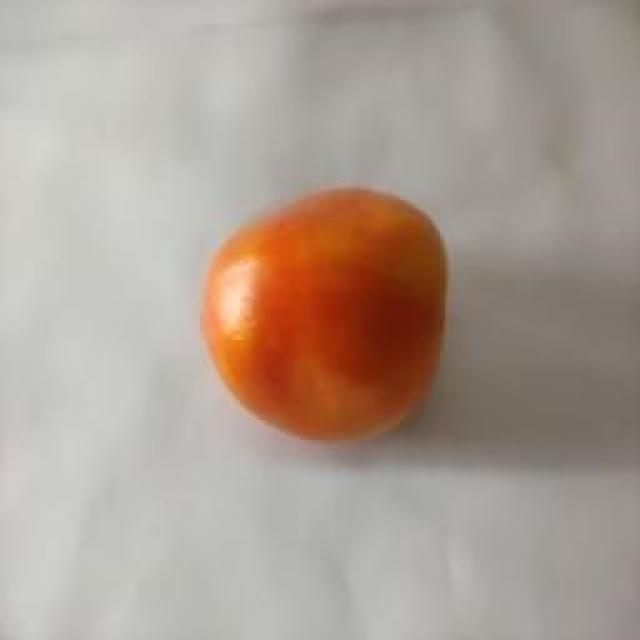Ripe: (196, 179, 454, 450)
